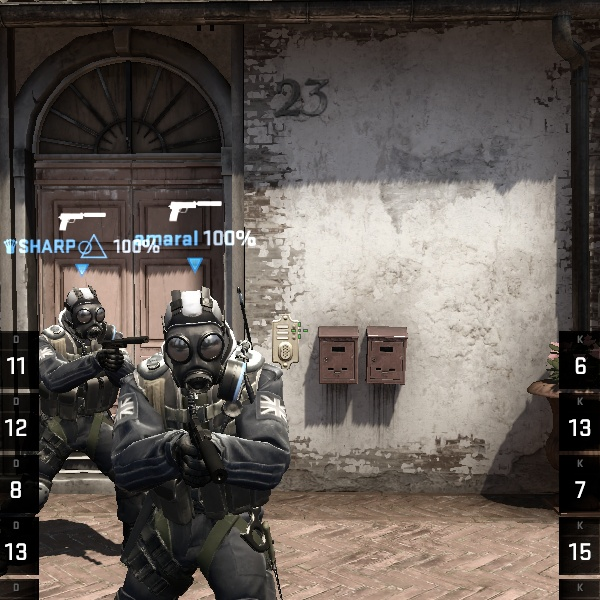ct_body: (90, 280, 305, 597), (8, 282, 153, 592)
ct_head: (150, 281, 240, 373), (52, 284, 115, 346)
